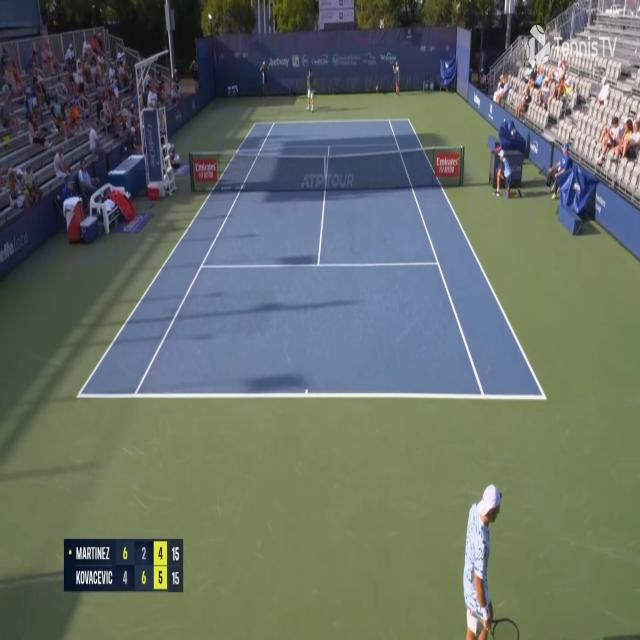tennis-player: (461, 477, 514, 638), (306, 67, 316, 113)
